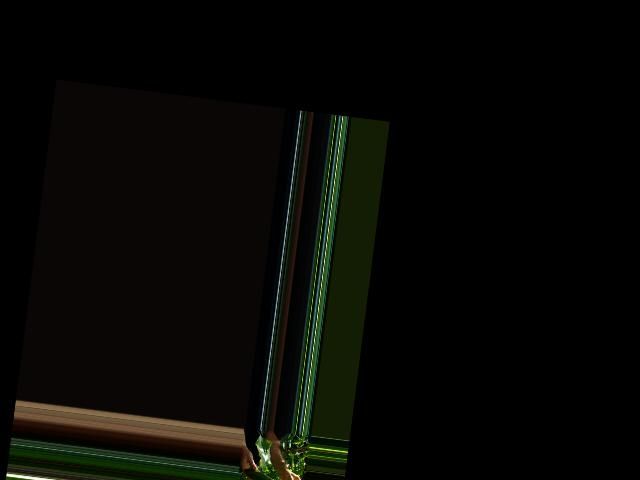cucumber: (241, 467, 298, 480)
